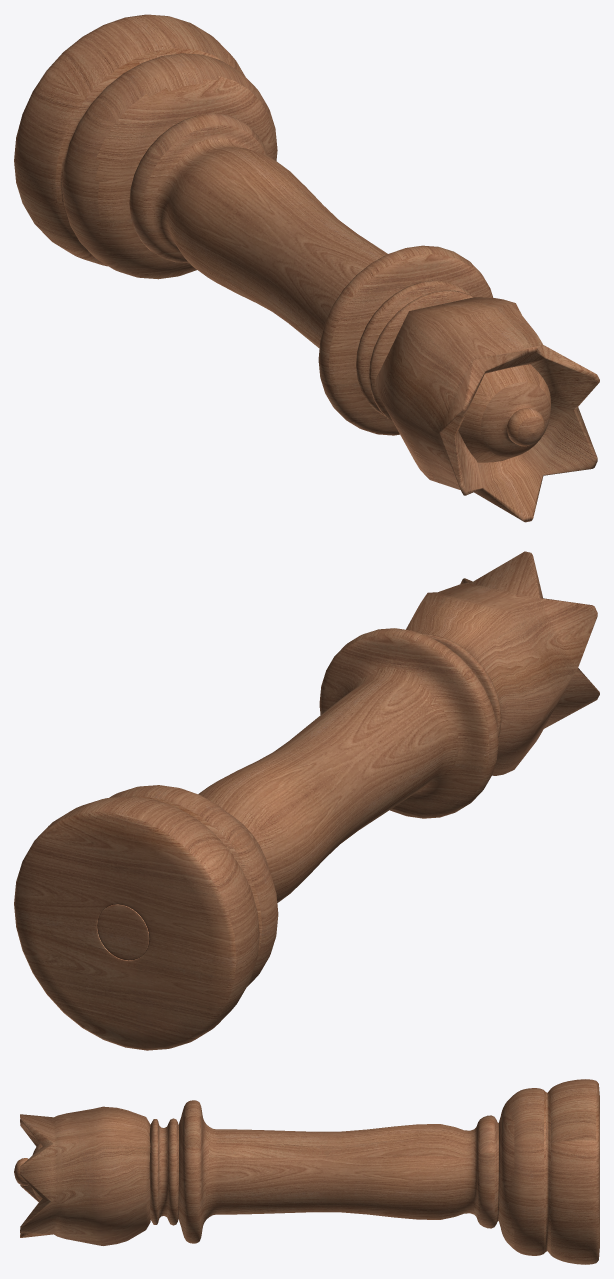
Rendered from queen.obj.
3 views of the same model, one above another, from view 1: azimuth 30°, elevation 25°; view 2: azimuth 150°, elevation 25°; view 3: azimuth 270°, elevation 25° (orthographic). The views are drawn at different scales.
Parts seen in each view (by area): view 1: Cube.005; view 2: Cube.005; view 3: Cube.005.
Boxes of the visible parts, x1,y1,x2,y2 form: Cube.005: (14, 14, 599, 522); Cube.005: (14, 551, 599, 1050); Cube.005: (14, 1079, 599, 1264).
Size of the model in its own units: 1.11 by 1.11 by 3.51.
